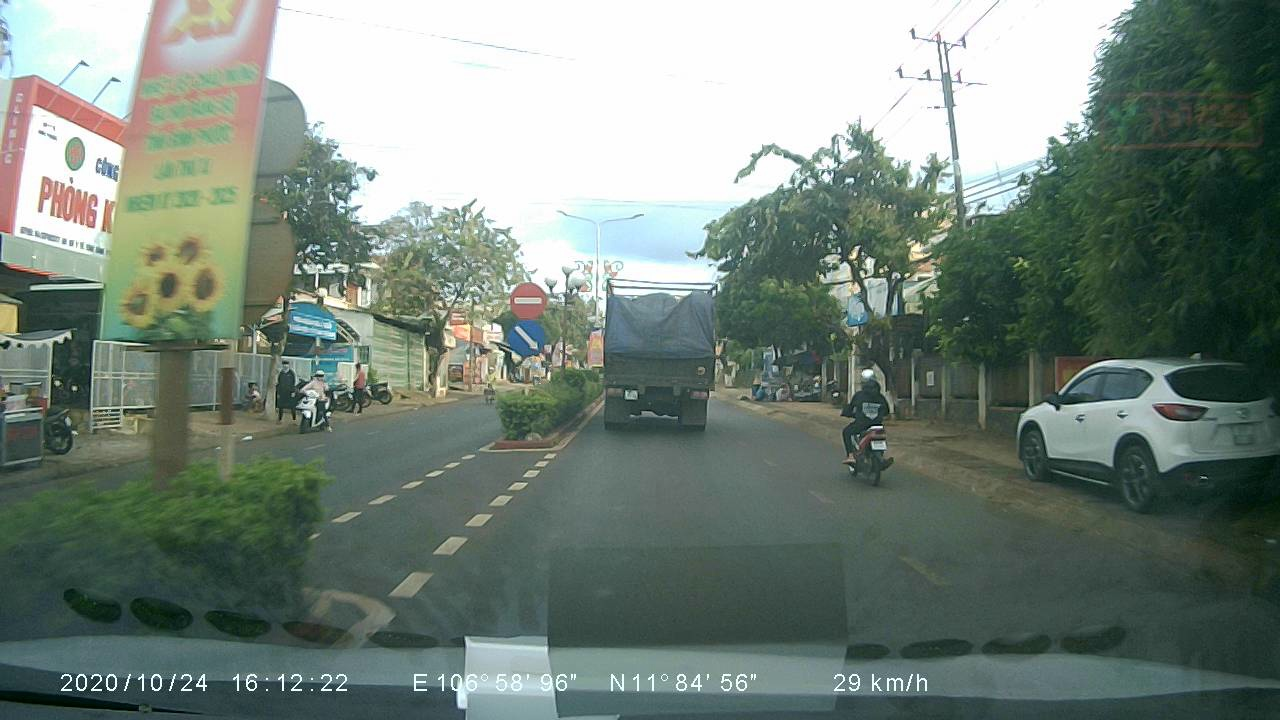Cam di nguoc chieu: (507, 280, 550, 320)
Huong di phai re phai: (504, 318, 544, 356)
